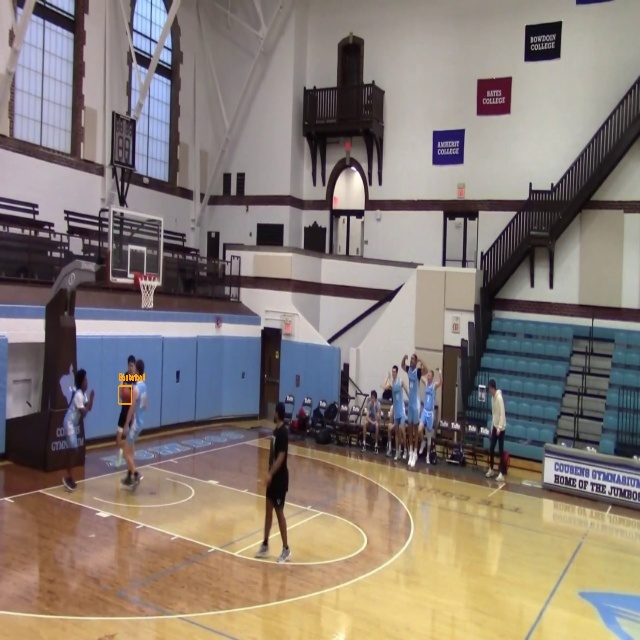Basketball: (119, 386, 132, 404)
